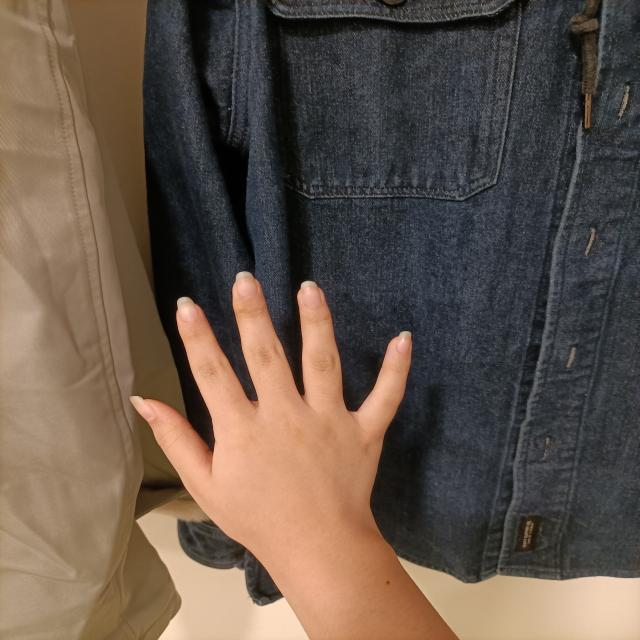Hand: (124, 266, 418, 622)
